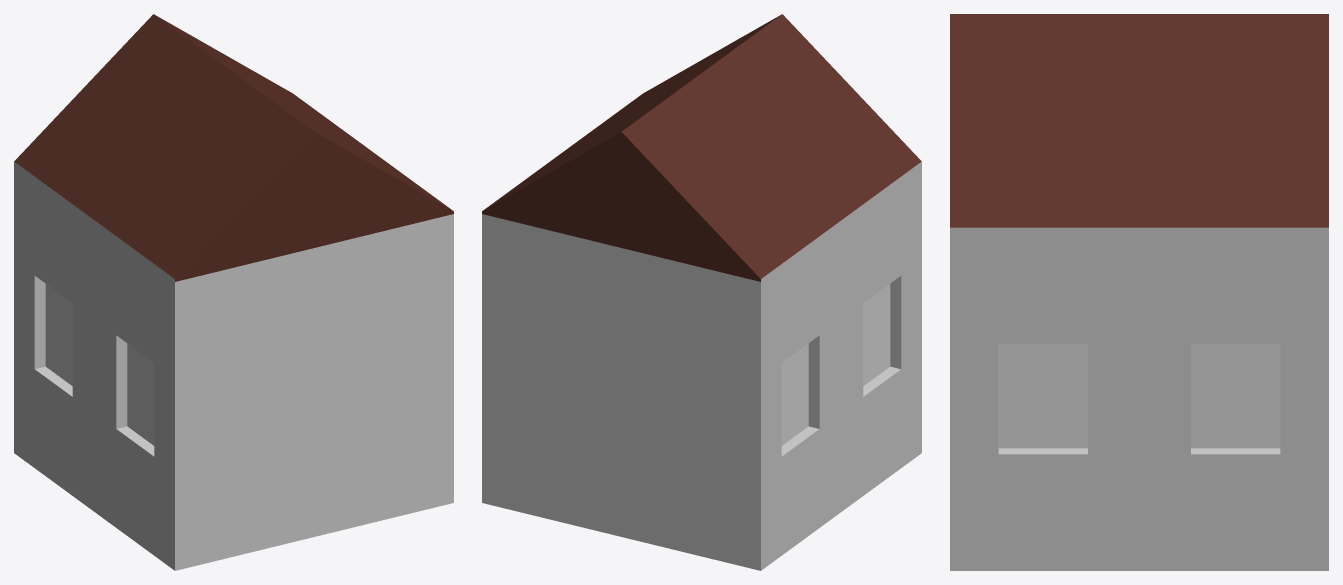
Rendered from church.fbx.
3 renders of one model, left to right at view 1: azimuth 30°, elevation 25°; view 2: azimuth 150°, elevation 25°; view 3: azimuth 270°, elevation 25°, orthographic. The views are drawn at different scales.
Visible parts, largest first — view 1: Cube; view 2: Cube; view 3: Cube.
Part boxes in pixels (x1,y1,x2,y2): Cube: (14,14,453,570); Cube: (482,14,921,570); Cube: (950,14,1328,570).
Bounding box in the file's own units: 200 × 278 × 200.
